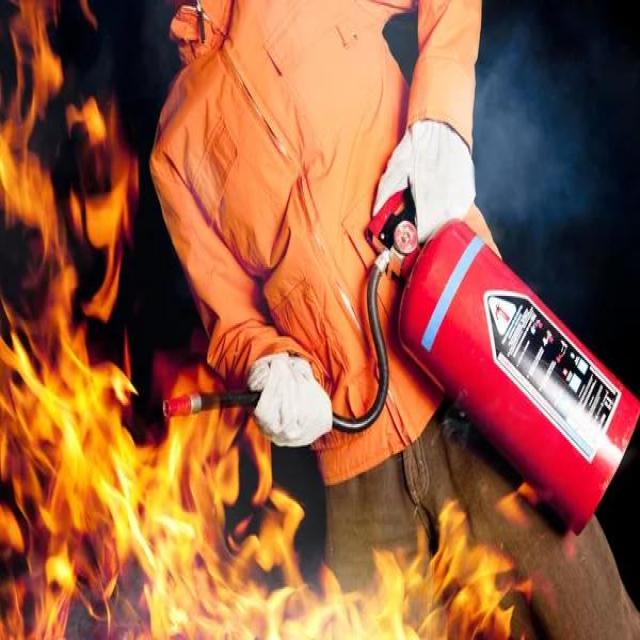fire_extinguisher: (152, 174, 639, 540)
